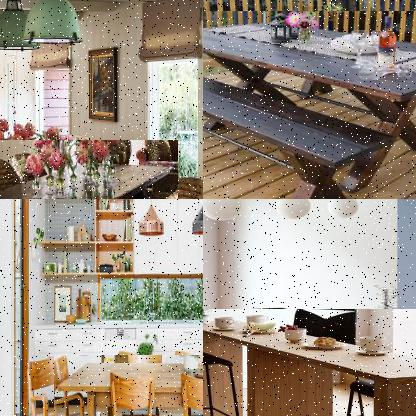table: (203, 11, 415, 198), (203, 309, 415, 415), (0, 140, 179, 198), (53, 355, 202, 415)
